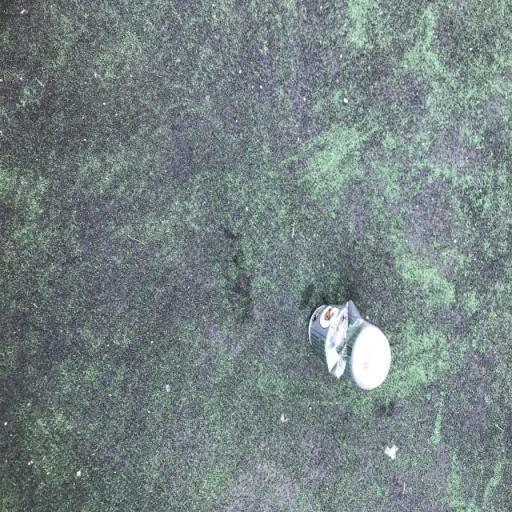metal: (302, 281, 397, 431)
